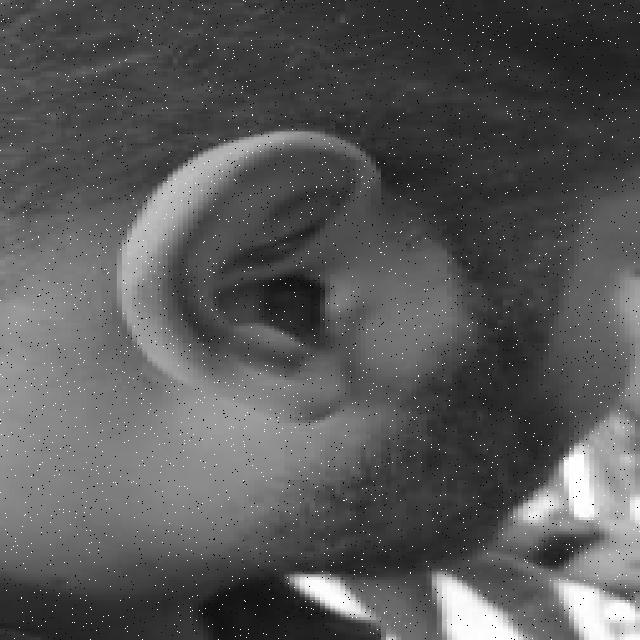ear: (117, 131, 371, 417)
